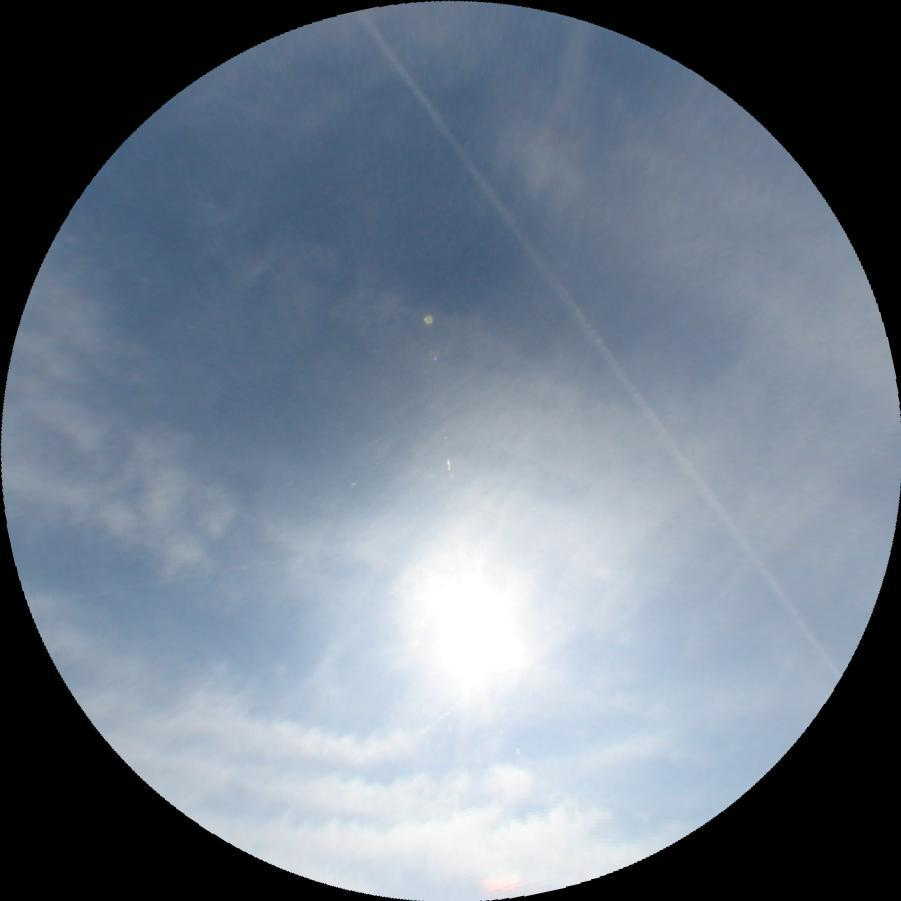contrail old: (417, 698, 466, 733)
contrail young: (351, 7, 846, 682)
sun: (409, 558, 531, 705)
